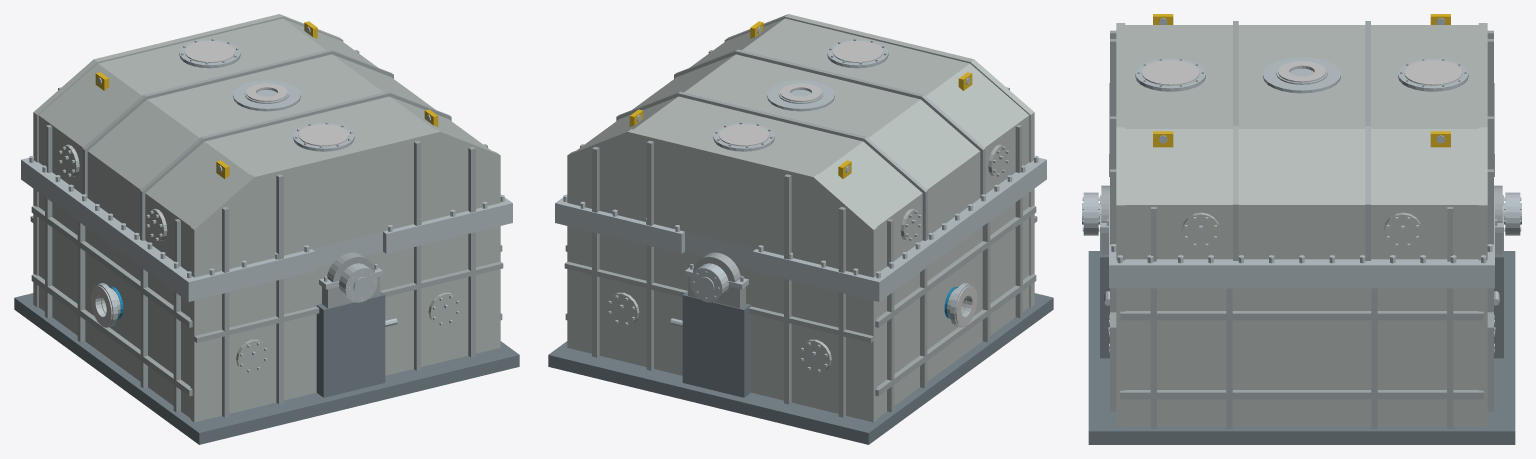
The model's file is compact.obj.
3 views of the same model, side by side, from view 1: azimuth 30°, elevation 25°; view 2: azimuth 150°, elevation 25°; view 3: azimuth 270°, elevation 25° (orthographic). The views are drawn at different scales.
Bounding box in the file's own units: 0.8935 × 0.6405 × 0.9.
